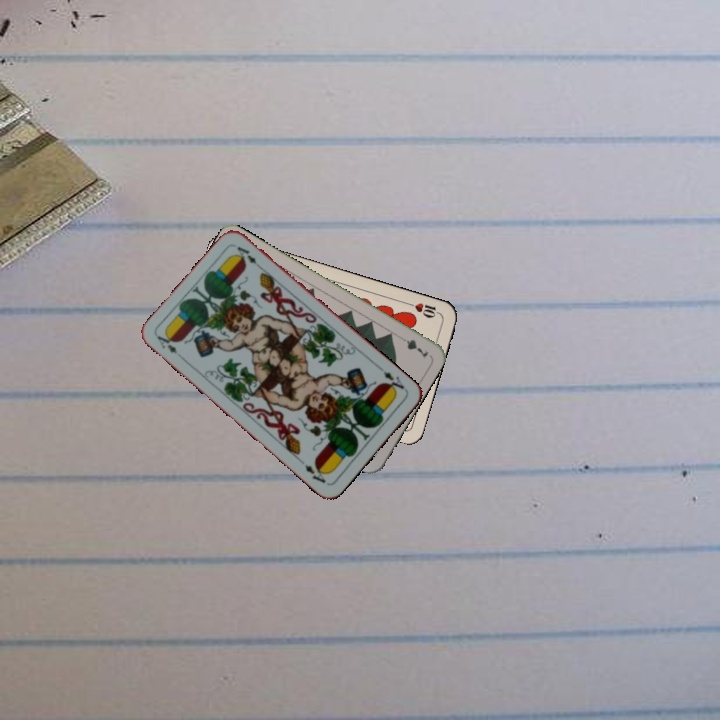EA: (153, 329, 186, 361), (376, 363, 407, 396)
G7: (394, 332, 431, 361)
H10: (403, 299, 443, 320)
